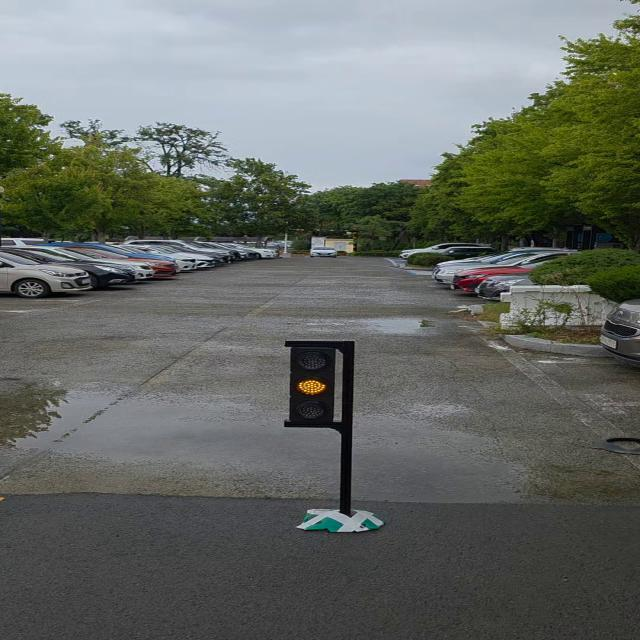yellow: (289, 340, 342, 427)
